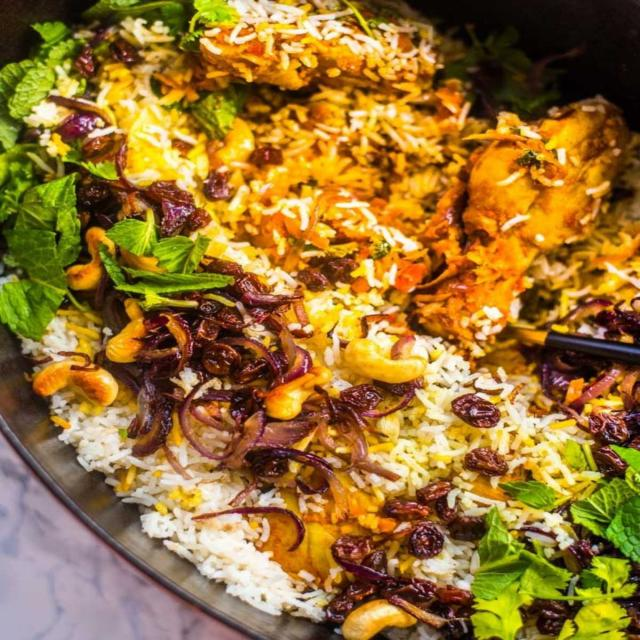chicken biryani: (35, 36, 626, 623)
